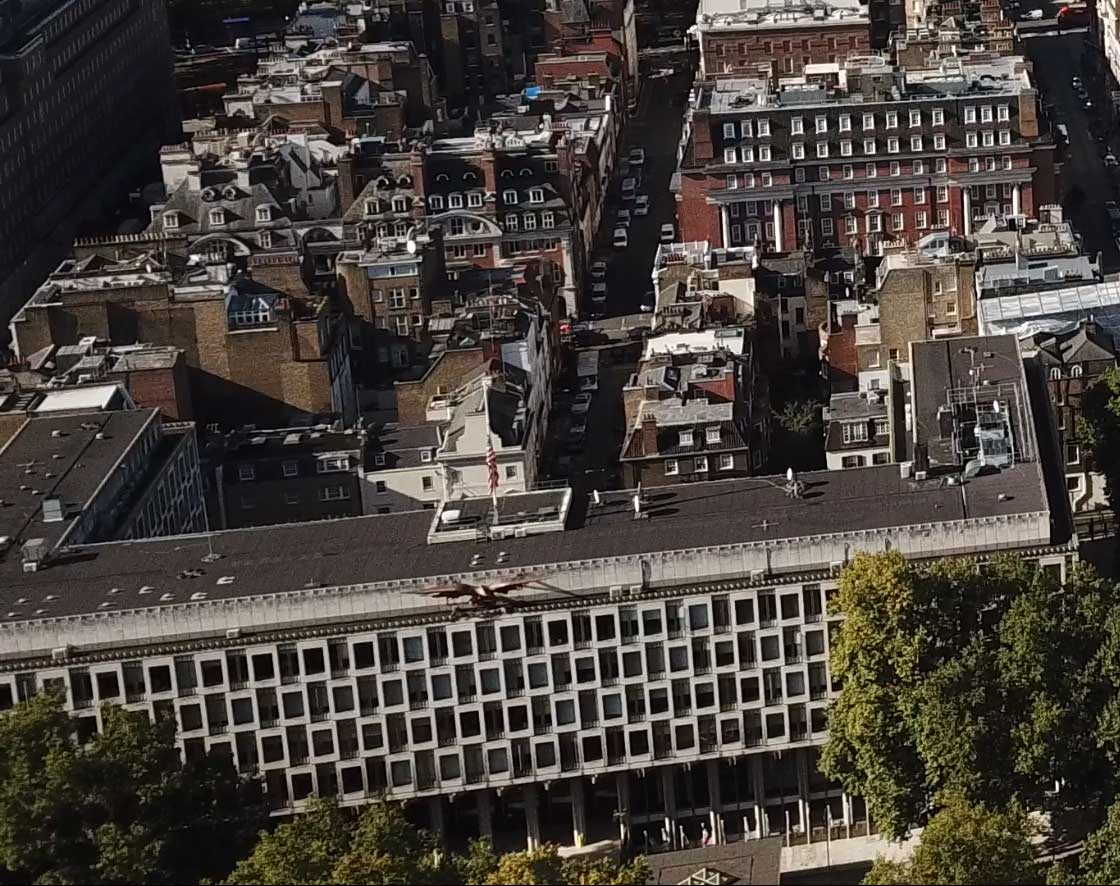building: (8, 427, 1064, 872)
tree: (826, 557, 1120, 871)
